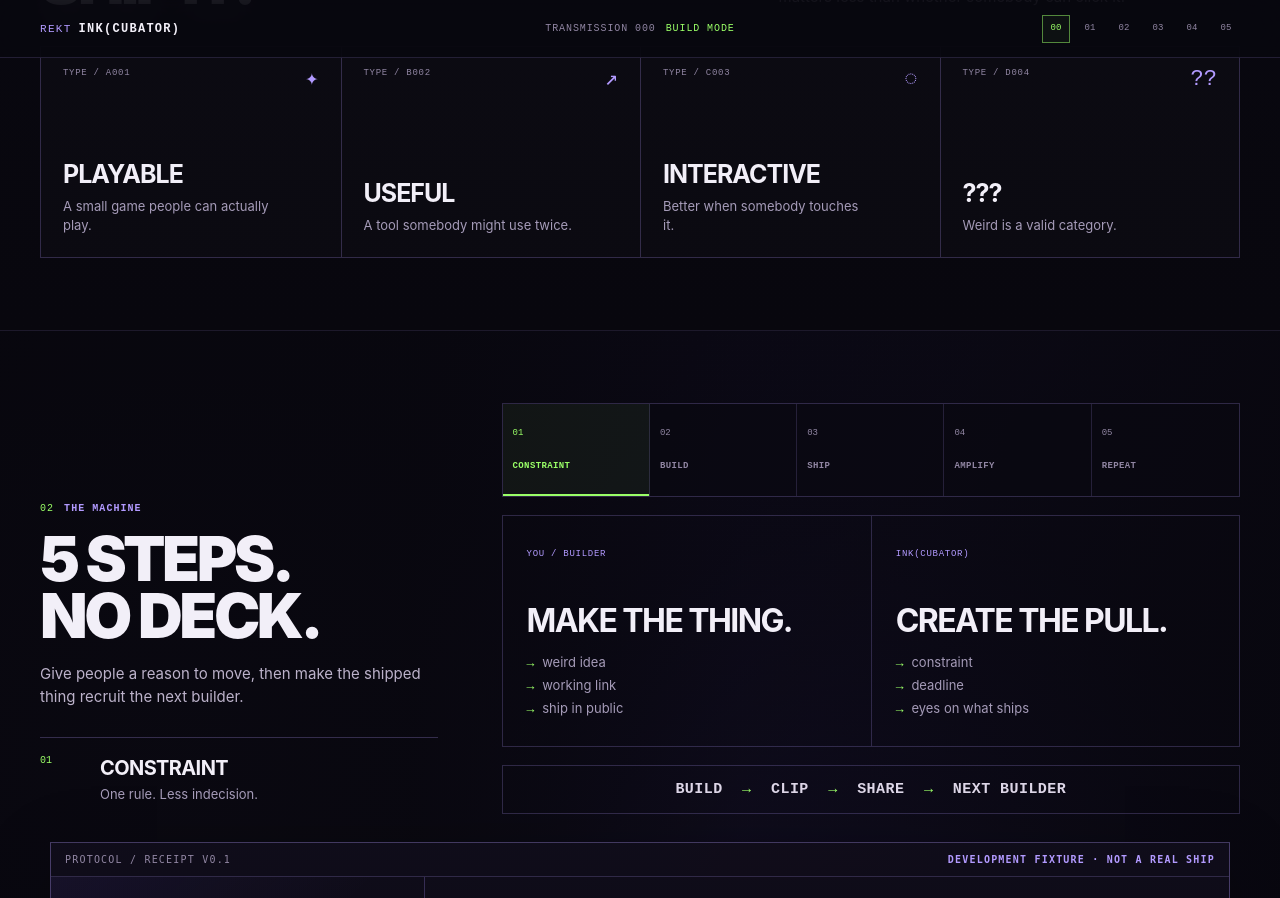
Inkubator comeback v3 › keeps the page to six clear beats and merges the machine with the value exchange
(page scrolled)
Check: the heading "MAKE THE THING." is shown, box [527,606,827,636]
Check: the heading "CREATE THE PULL." is shown, box [896,606,1196,636]
Click the button "04 AMPLIFY". click: (1018, 450)
box: [944,404,1092,496]
(page scrolled)
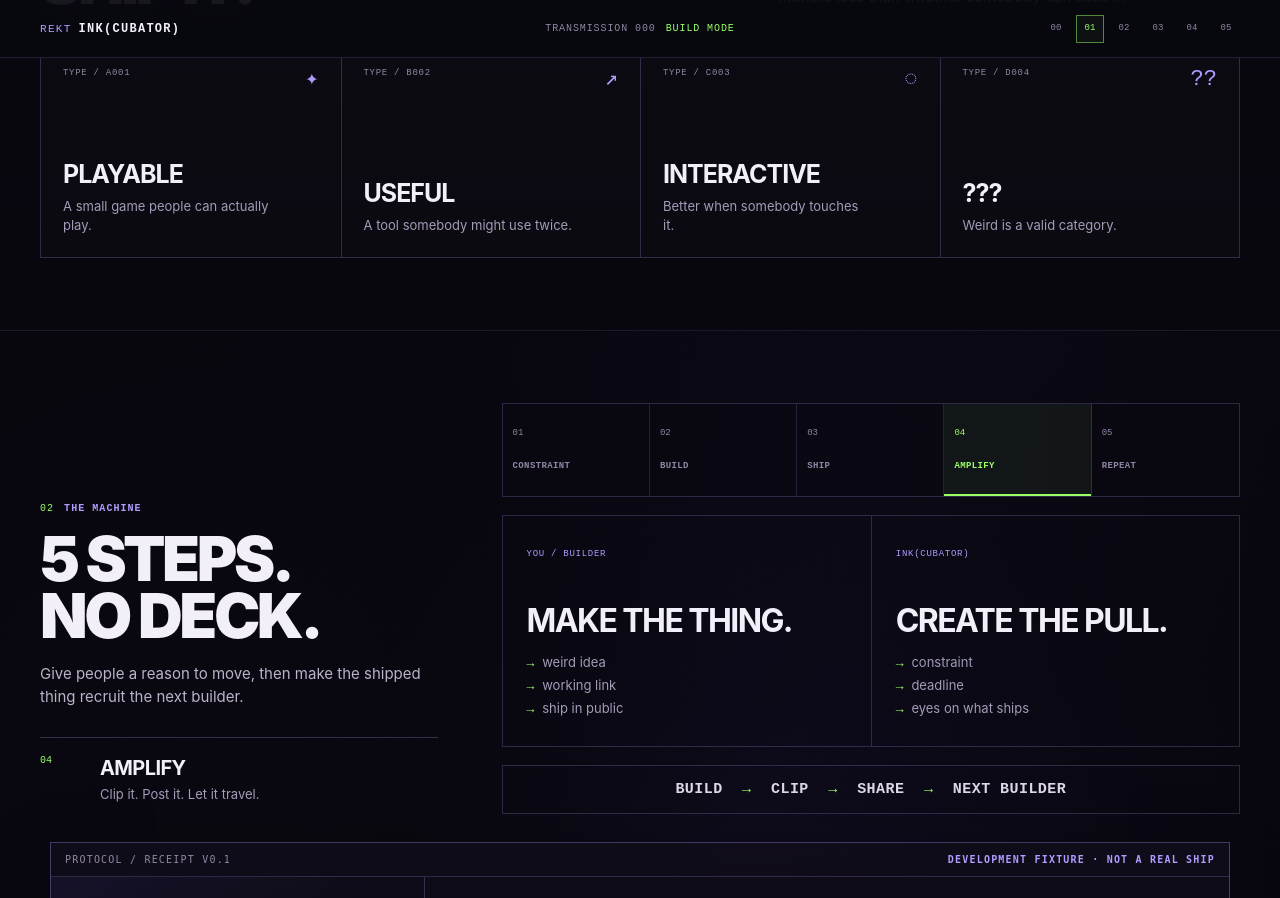
Check: the text "Clip it. Post it. Let it travel." is shown, box [100,786,260,802]
